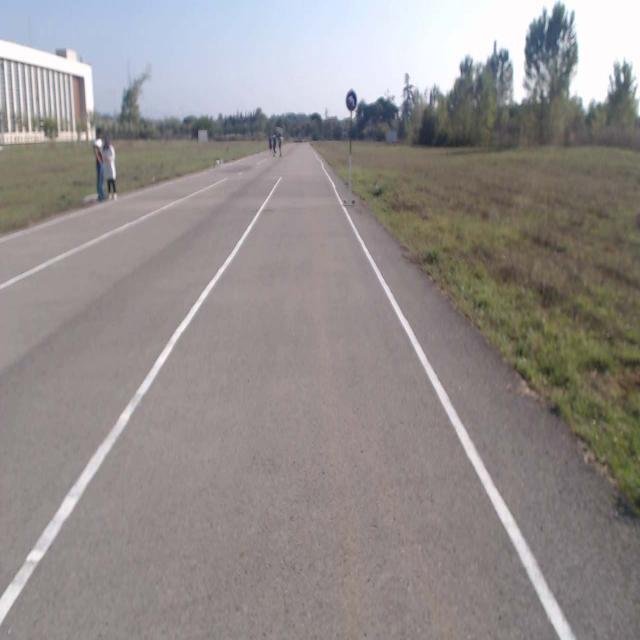sol: (346, 90, 356, 112)
